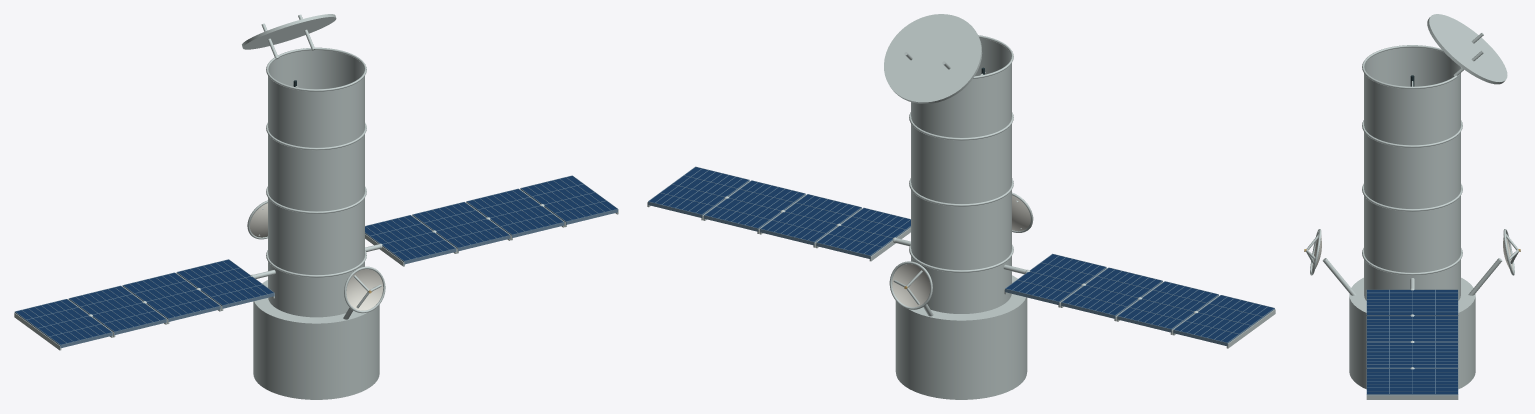
The model's file is hubble.glb.
The picture shows the model from 3 angles, left to right: view 1: azimuth 30°, elevation 25°; view 2: azimuth 150°, elevation 25°; view 3: azimuth 270°, elevation 25°; orthographic projection. The views are drawn at different scales.
Parts seen in each view (by area): view 1: body, photovoltaic-panel (×8), solar (×8), reflector, antenna; view 2: body, photovoltaic-panel (×8), solar (×8), reflector, antenna; view 3: body, photovoltaic-panel (×4), solar (×4), antenna (×3).
Boxes of the visible parts, box(x1,y1,x2,y2) form: body: box(242, 14, 379, 399); photovoltaic-panel (×8): box(16, 176, 616, 344); solar (×8): box(14, 175, 618, 350); reflector: box(346, 269, 383, 310); antenna: box(344, 266, 385, 313); body: box(884, 14, 1027, 399); photovoltaic-panel (×8): box(649, 167, 1273, 342); solar (×8): box(647, 166, 1275, 348); reflector: box(892, 264, 930, 307); antenna: box(889, 261, 932, 309); body: box(1349, 14, 1507, 389); photovoltaic-panel (×4): box(1367, 290, 1457, 393); solar (×4): box(1366, 289, 1458, 399); antenna (×3): box(1304, 229, 1520, 295).
Bounding box in the file's own units: 9.19 × 5.49 × 3.08.
